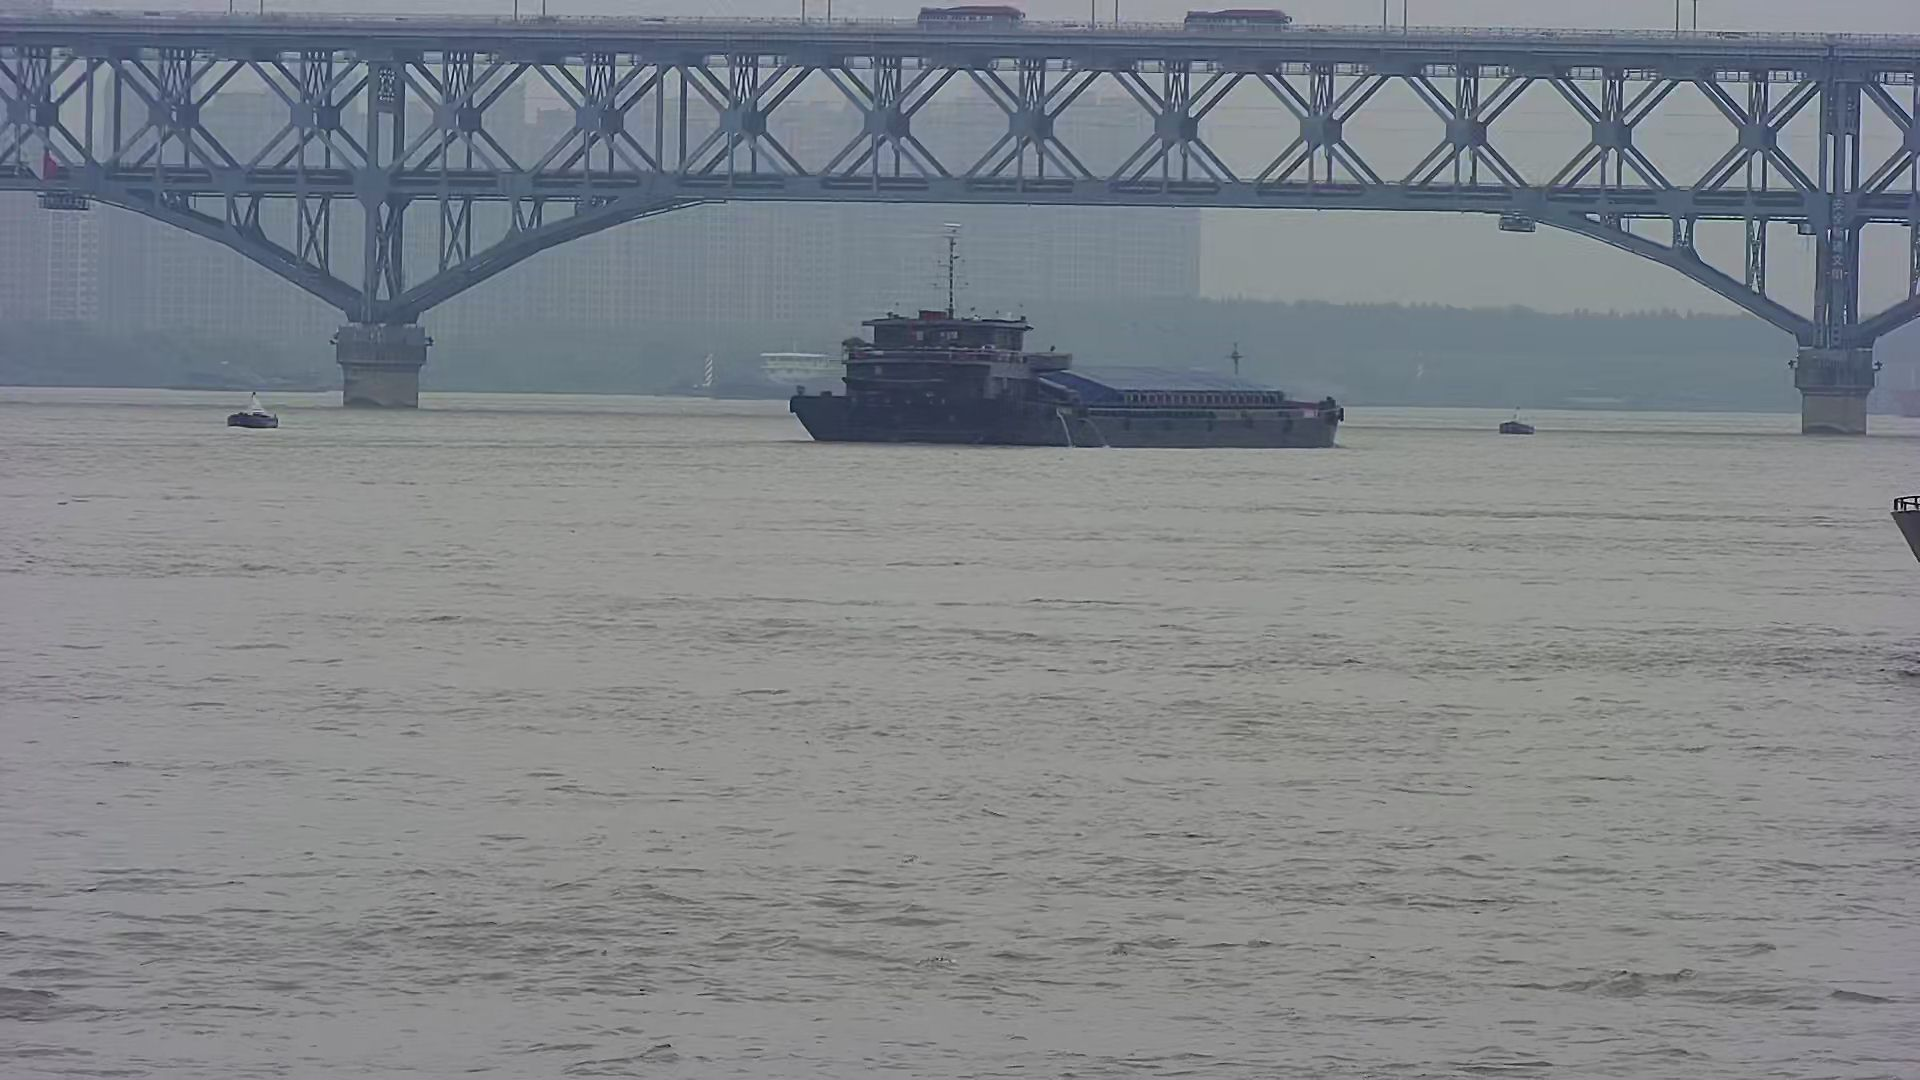boat: (219, 386, 291, 447), (1484, 397, 1552, 454)
bridge: (1, 4, 1913, 442)
ship: (771, 208, 1361, 455)
